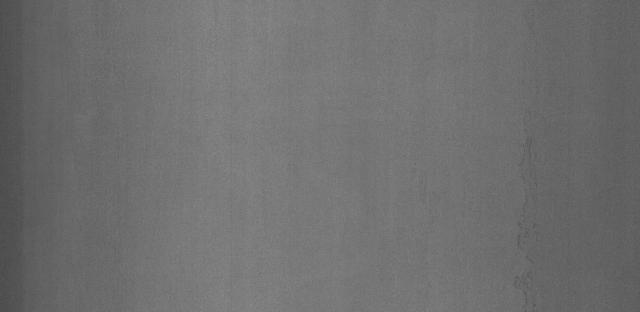silk_spot: (495, 71, 561, 290)
